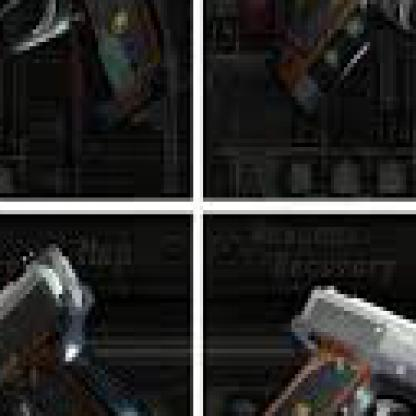gun: (0, 218, 187, 412), (0, 0, 180, 160), (223, 265, 412, 412), (265, 0, 413, 147)
